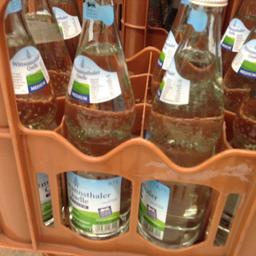water: (140, 0, 230, 250), (60, 0, 134, 240), (2, 0, 56, 230)
